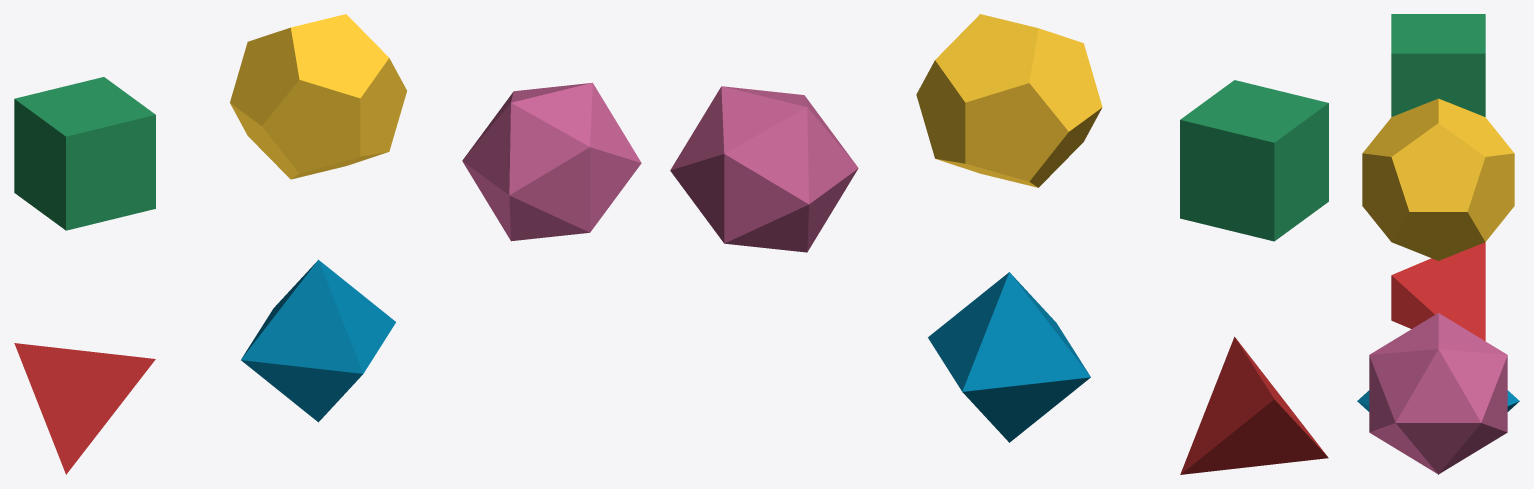
3 renders of one model, left to right at view 1: azimuth 30°, elevation 25°; view 2: azimuth 150°, elevation 25°; view 3: azimuth 270°, elevation 25°, orthographic. The views are drawn at different scales.
Visible parts, largest first — view 1: Dodecahedron, Icosahedron, Hexahedron, Octahedron, Tetrahedron; view 2: Dodecahedron, Icosahedron, Hexahedron, Octahedron, Tetrahedron; view 3: Dodecahedron, Icosahedron, Hexahedron, Tetrahedron, Octahedron.
Part boxes in pixels (x1,y1,x2,y2): Dodecahedron: (230, 14, 406, 179); Icosahedron: (462, 82, 641, 241); Hexahedron: (14, 77, 155, 230); Octahedron: (241, 260, 395, 422); Tetrahedron: (14, 343, 155, 474); Dodecahedron: (916, 14, 1102, 187); Icosahedron: (670, 86, 858, 252); Hexahedron: (1180, 80, 1328, 241); Octahedron: (928, 272, 1090, 442); Tetrahedron: (1180, 336, 1328, 474); Dodecahedron: (1362, 98, 1514, 260); Icosahedron: (1369, 313, 1507, 474); Hexahedron: (1391, 14, 1485, 116); Tetrahedron: (1391, 242, 1485, 341); Octahedron: (1357, 390, 1519, 474).
Size of the model in its own units: 7.43 by 4.93 by 2.
